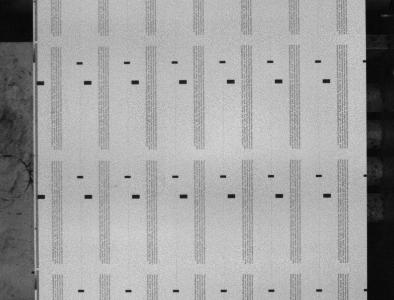backgroundclutter: (31, 271, 35, 274)
incorrect qblock: (363, 60, 367, 63), (364, 288, 368, 291), (364, 174, 368, 177)
qblock: (37, 194, 45, 199), (84, 80, 92, 85), (227, 79, 235, 84), (132, 194, 140, 199), (323, 193, 332, 197), (323, 79, 331, 83), (84, 194, 92, 198), (276, 194, 284, 198), (228, 194, 236, 198), (275, 79, 283, 83), (179, 80, 187, 84), (180, 194, 188, 198), (131, 80, 139, 84), (37, 81, 44, 85), (220, 175, 227, 178), (268, 174, 275, 177), (316, 174, 322, 177)
smallqblock: (78, 289, 85, 292), (316, 289, 323, 292), (125, 289, 132, 292), (76, 62, 83, 65), (315, 60, 322, 63), (267, 60, 274, 63), (77, 175, 84, 178), (219, 60, 226, 63), (124, 175, 131, 178), (172, 175, 179, 178), (269, 289, 275, 292), (173, 289, 179, 292), (221, 289, 227, 292), (124, 61, 130, 64), (172, 61, 178, 64)
